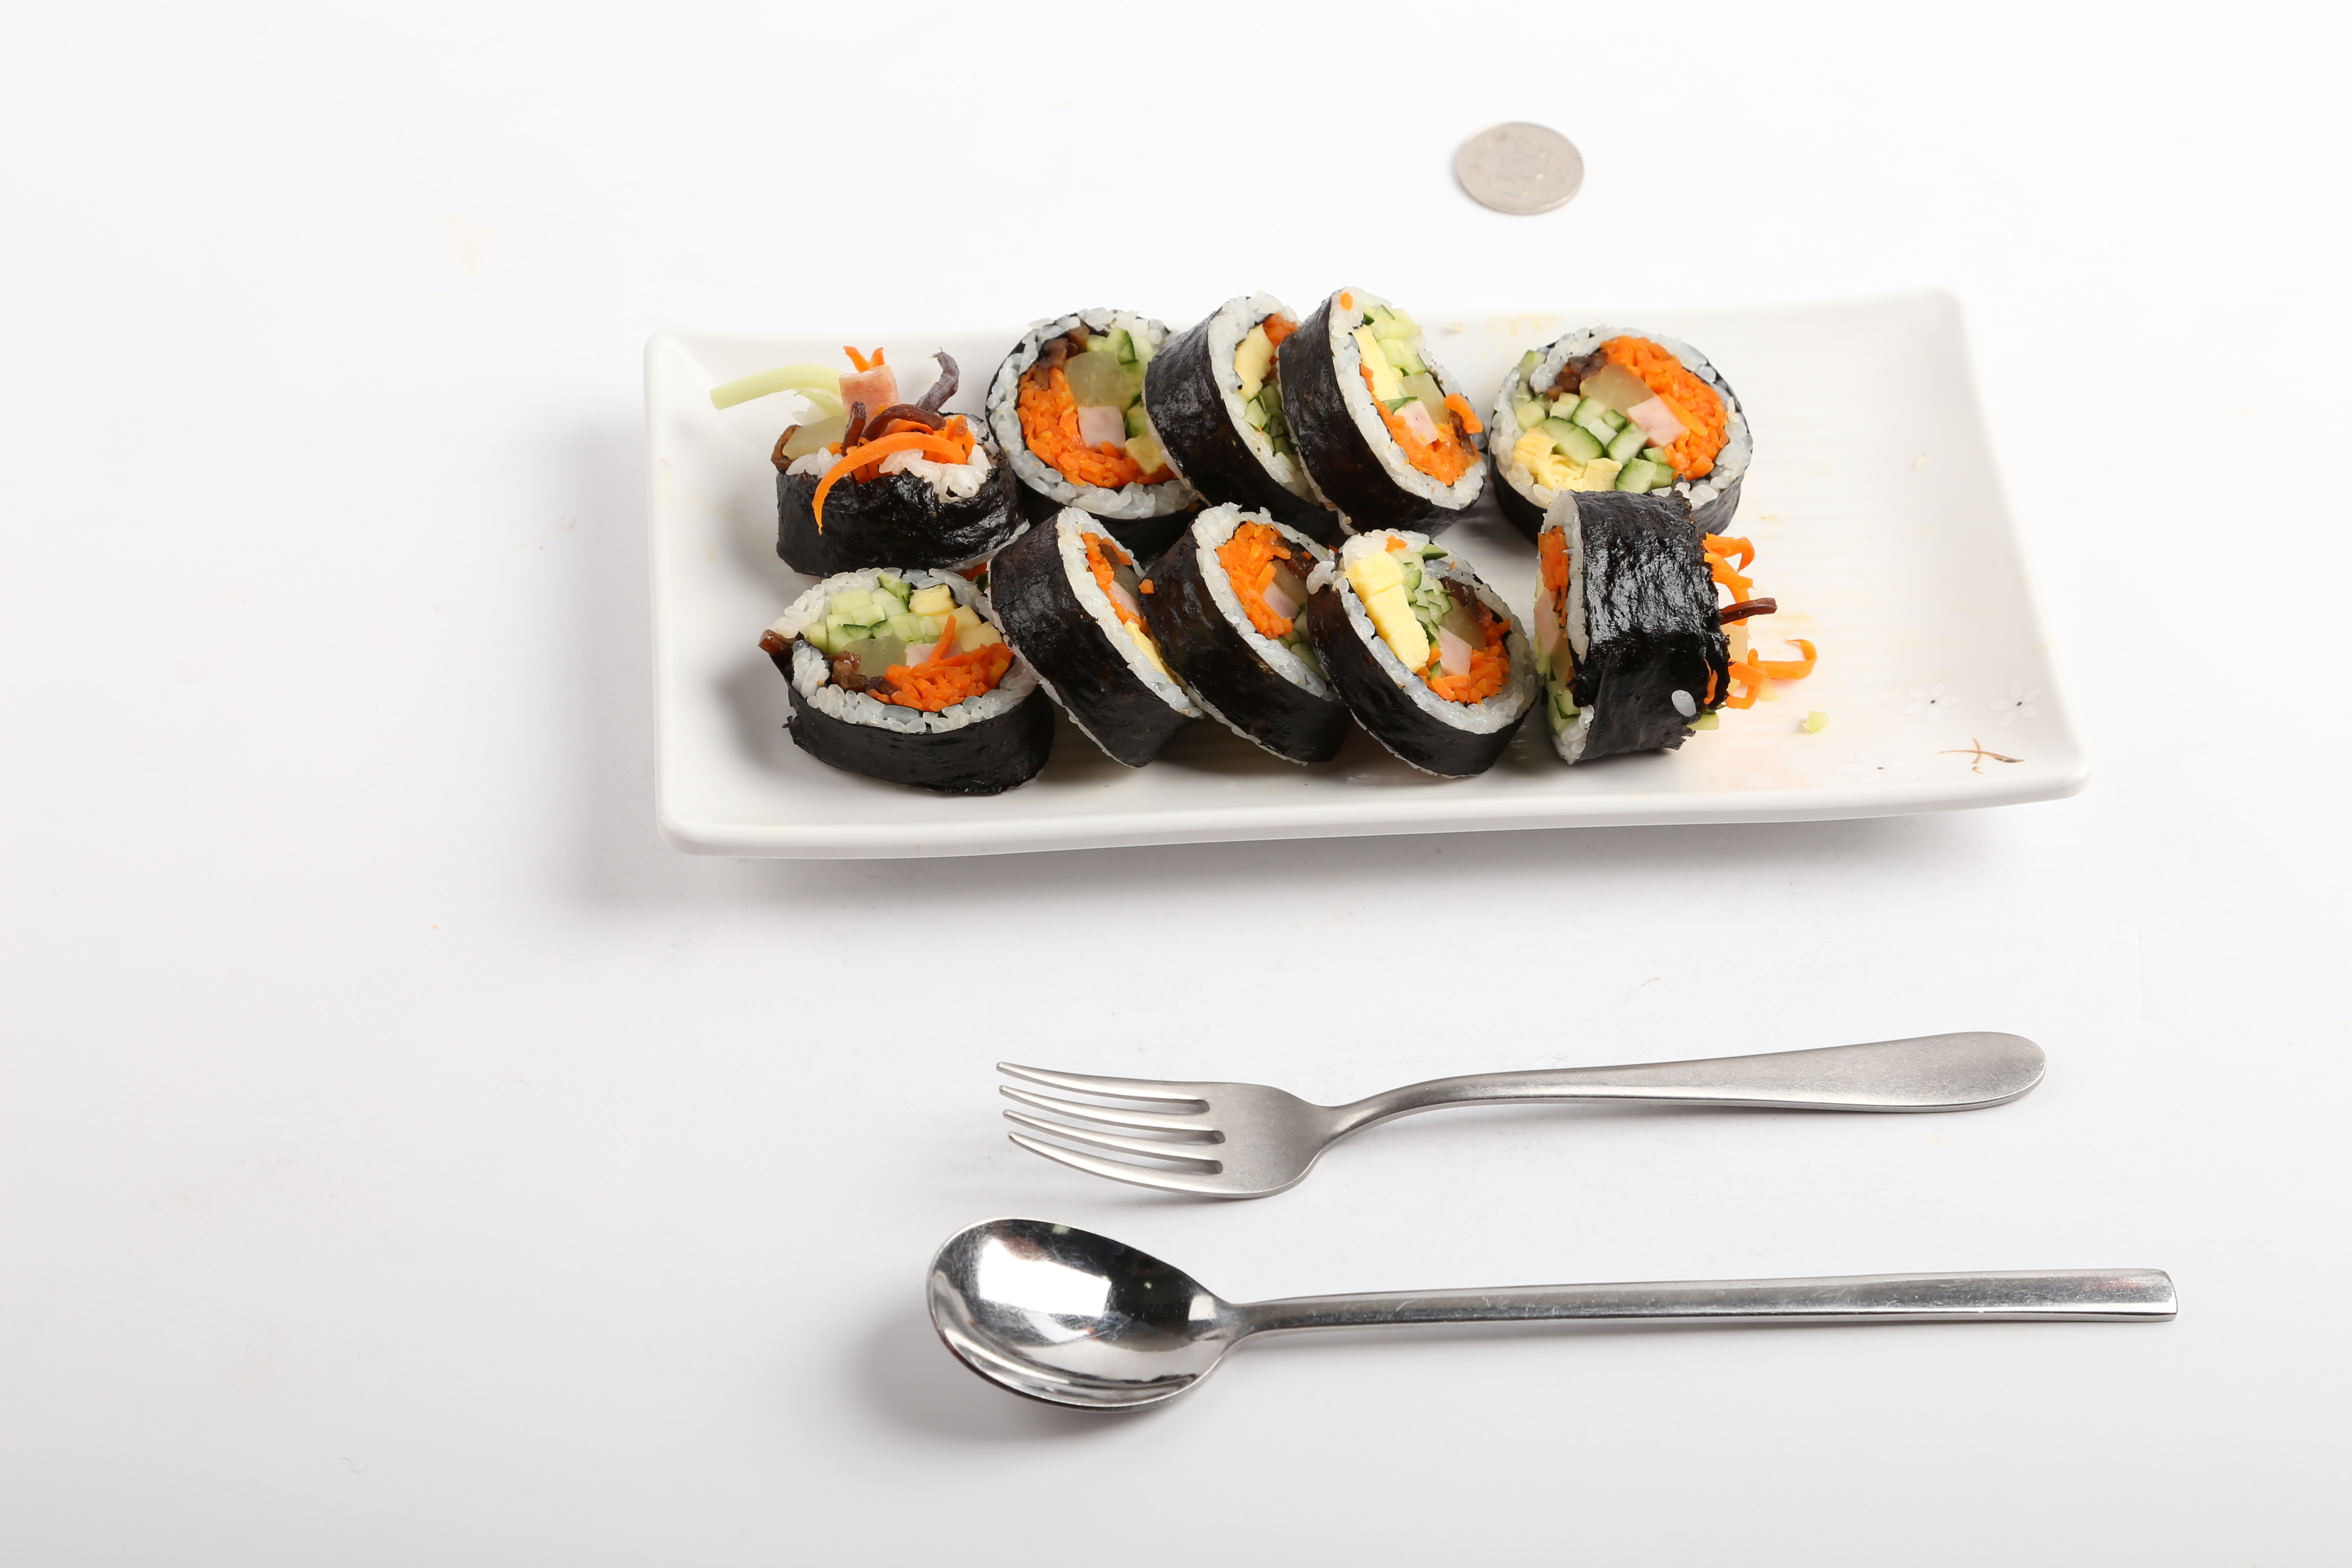dish: (644, 280, 2091, 866)
ref_coin: (1447, 114, 1591, 220)
ref_fork: (990, 1057, 1410, 1206)
ref_spoon: (919, 1213, 1333, 1423)
김밥: (772, 282, 1750, 800)
